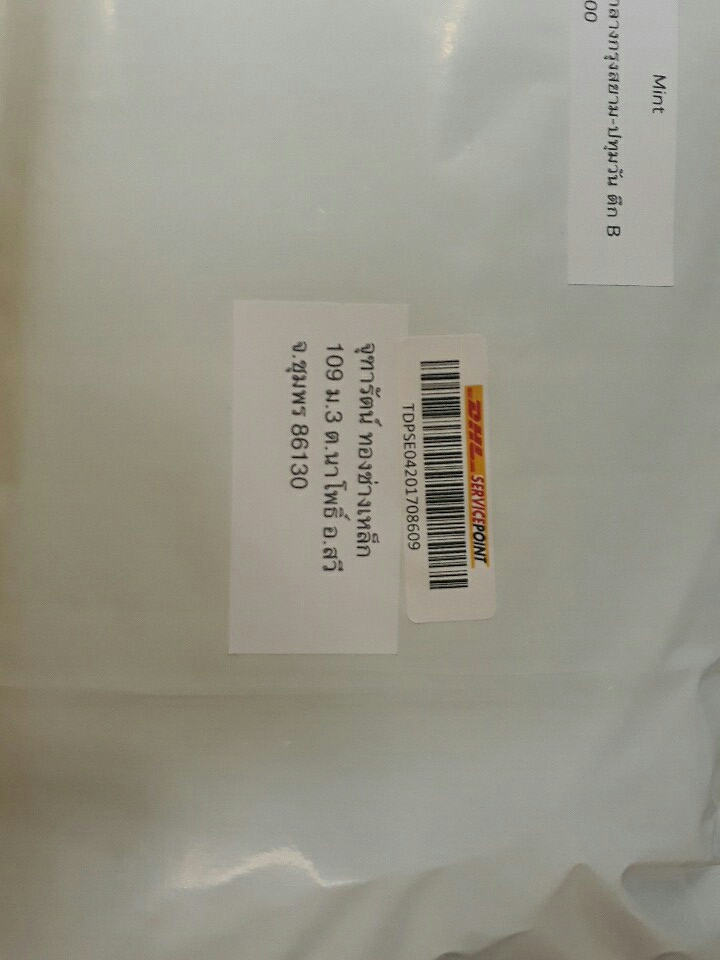ba: (385, 321, 502, 633)
txt: (281, 328, 391, 590)
